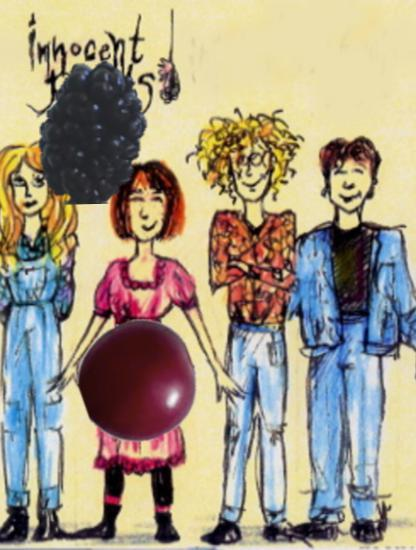Cherry: (77, 320, 200, 443)
Mulberry: (22, 60, 167, 205)
